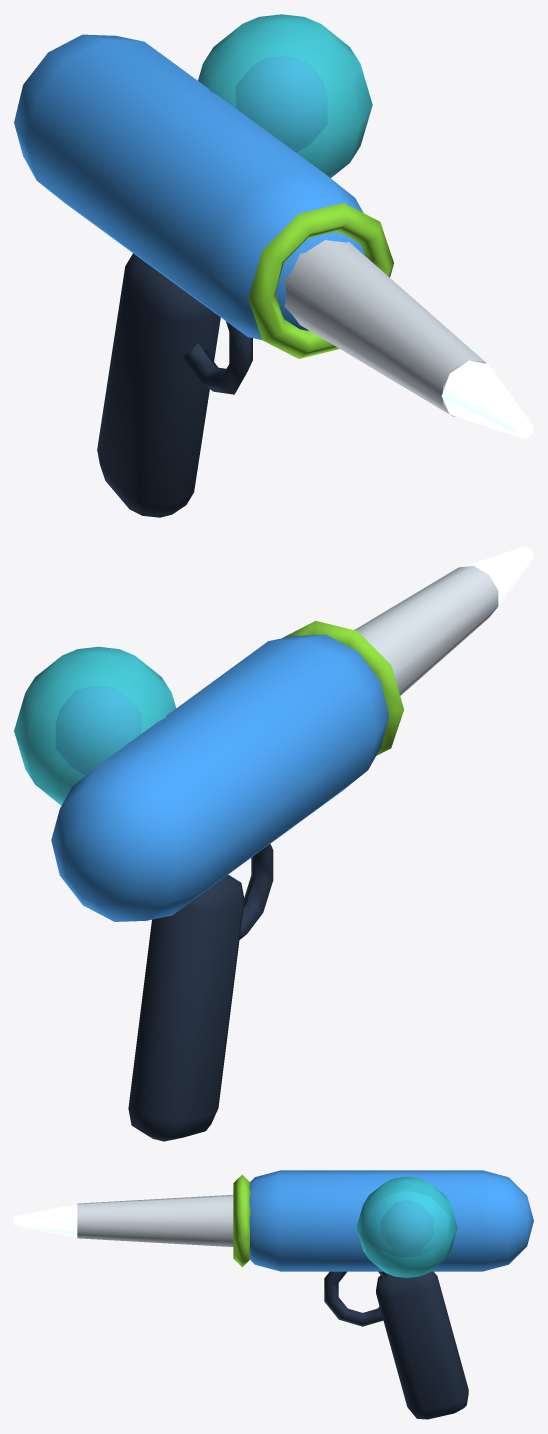
Rendered from PlasmaCutter.fbx.
The picture shows the model from 3 angles, top to bottom: view 1: azimuth 30°, elevation 25°; view 2: azimuth 150°, elevation 25°; view 3: azimuth 270°, elevation 25°; orthographic projection. The views are drawn at different scales.
Visible parts, largest first — view 1: PlasmaCutter; view 2: PlasmaCutter; view 3: PlasmaCutter.
Boxes of the visible parts, x1=… form: PlasmaCutter: x1=14, y1=14, x2=533, y2=517; PlasmaCutter: x1=14, y1=546, x2=533, y2=1141; PlasmaCutter: x1=14, y1=1170, x2=533, y2=1419.
Size of the model in its own units: 0.135 by 0.2307 by 0.41.
